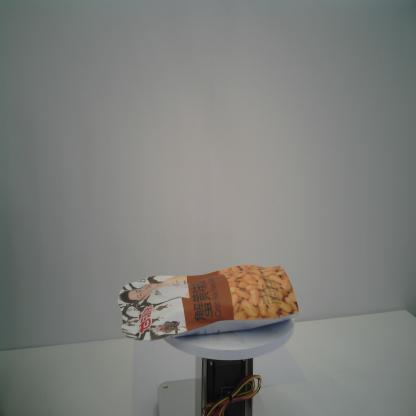Dried Fruit: (118, 264, 299, 341)
